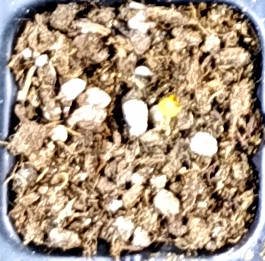pepper seed: (65, 31, 250, 153)
